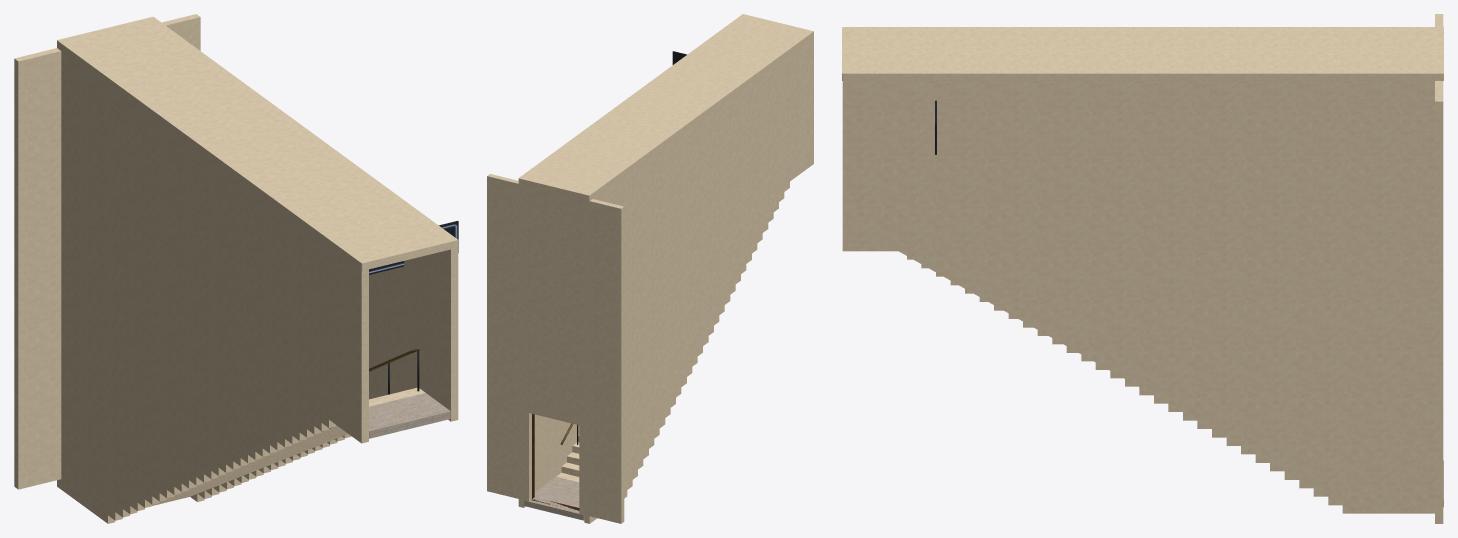
File: explore3d__lower_stairway.glb
The picture shows the model from 3 angles, left to right: view 1: azimuth 30°, elevation 25°; view 2: azimuth 150°, elevation 25°; view 3: azimuth 270°, elevation 25°; orthographic projection. The views are drawn at different scales.
Visible parts, largest first — view 1: Rebuilt_lower_stairway; view 2: Rebuilt_lower_stairway; view 3: Rebuilt_lower_stairway.
Boxes of the visible parts, x1,y1,x2,y2 form: Rebuilt_lower_stairway: (14, 14, 458, 523); Rebuilt_lower_stairway: (487, 14, 813, 523); Rebuilt_lower_stairway: (842, 14, 1443, 523).
Bounding box in the file's own units: 4.1 × 9.36 × 11.6.
8 materials, 7 textured.
